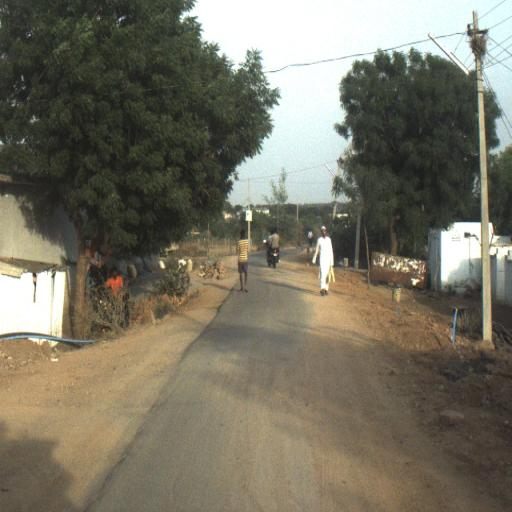street_light_0: (428, 33, 483, 101), (324, 159, 335, 177)
